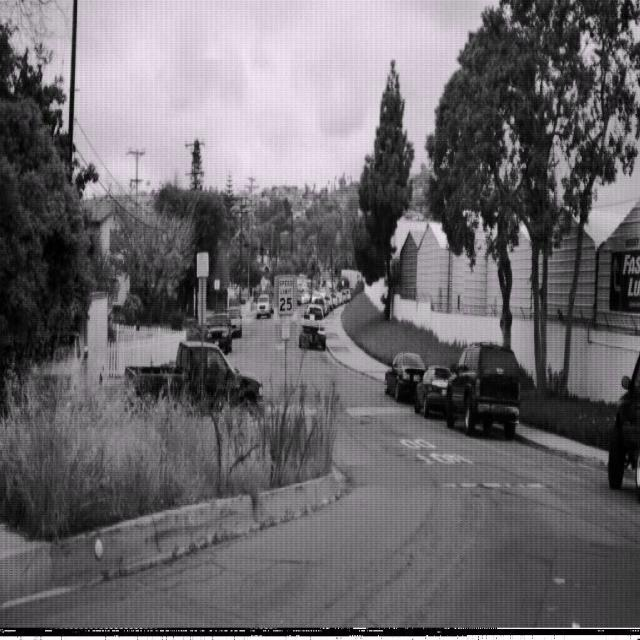speedLimit25: (278, 275, 294, 316)
